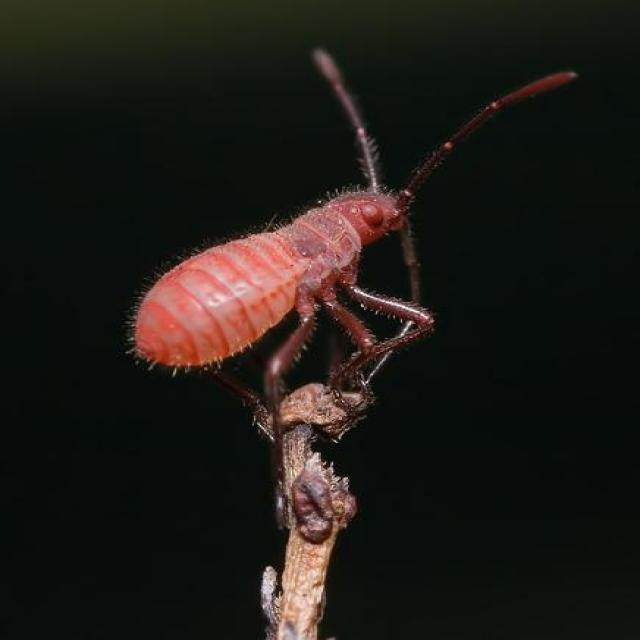Aphids: (129, 163, 456, 415)
